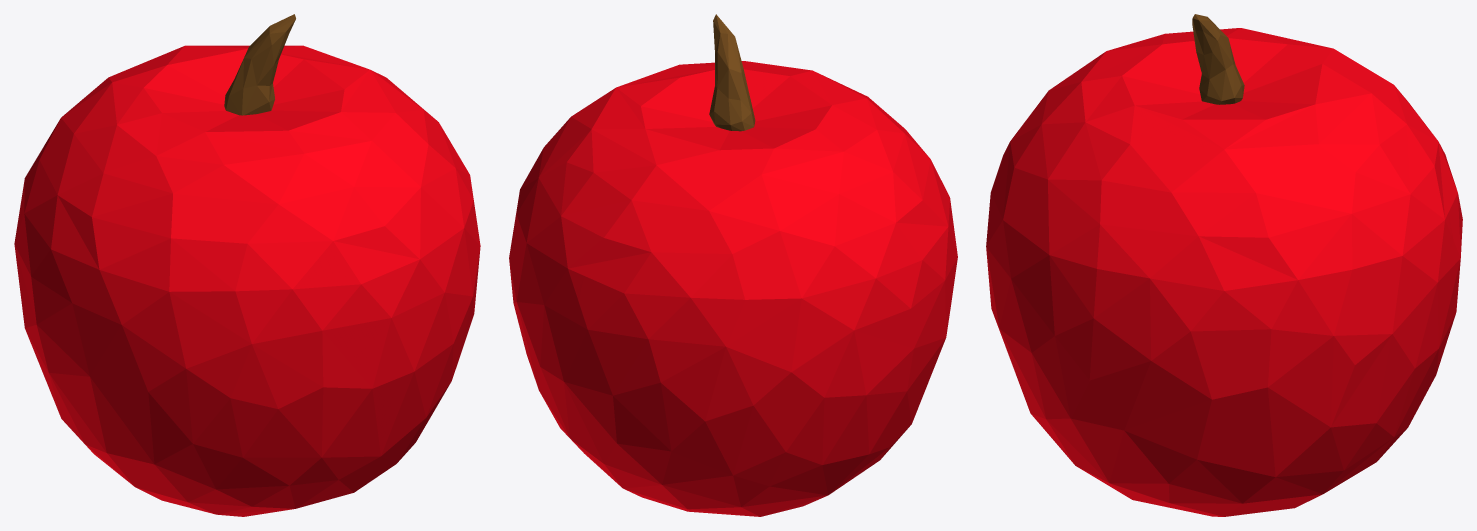
The model's file is Apple.fbx.
The picture shows the model from 3 angles, left to right: view 1: azimuth 30°, elevation 25°; view 2: azimuth 150°, elevation 25°; view 3: azimuth 270°, elevation 25°; orthographic projection. The views are drawn at different scales.
Visible parts, largest first — view 1: AppleBase, Stem; view 2: AppleBase, Stem; view 3: AppleBase, Stem.
Boxes of the visible parts, left/top/right/bottom form: AppleBase: left=14, top=45, right=480, bottom=516; Stem: left=224, top=14, right=295, bottom=115; AppleBase: left=509, top=61, right=957, bottom=516; Stem: left=709, top=14, right=755, bottom=131; AppleBase: left=986, top=28, right=1462, bottom=516; Stem: left=1192, top=14, right=1244, bottom=104.
Size of the model in its own units: 10.24 by 11.95 by 10.24.
